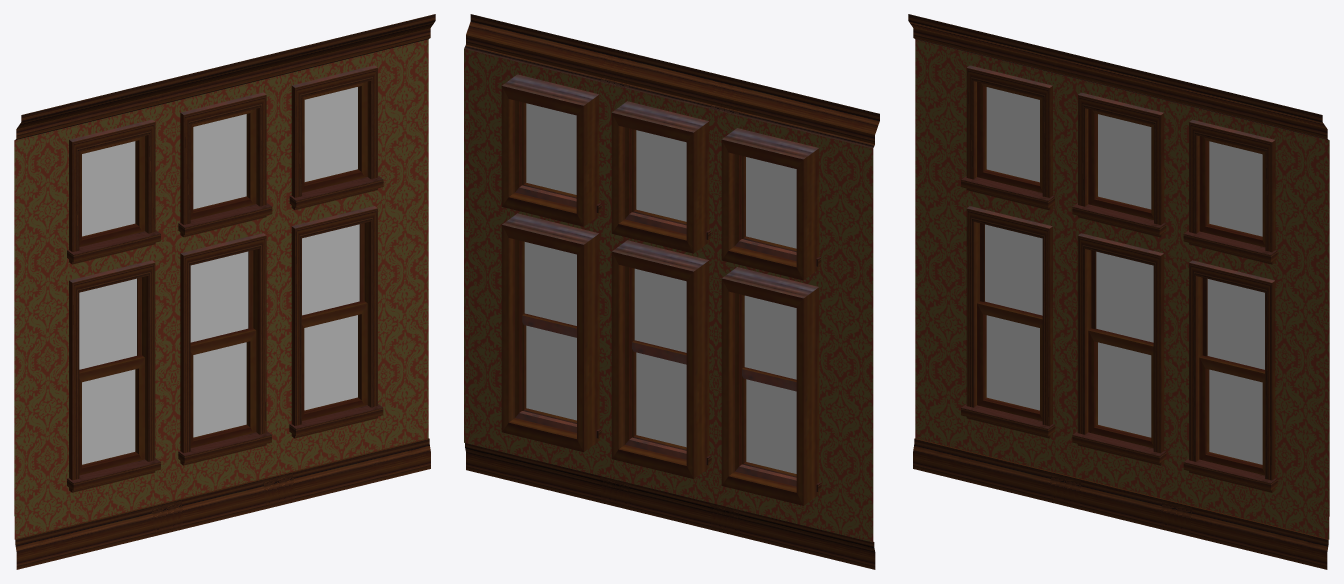
Rendered from Wallof3Windows.fbx.
The picture shows the model from 3 angles, left to right: view 1: azimuth 30°, elevation 25°; view 2: azimuth 150°, elevation 25°; view 3: azimuth 330°, elevation 25°; orthographic projection.
Parts seen in each view (by area): view 1: Wall_SmoothWindowNarrow.001; view 2: Wall_SmoothWindowNarrow.001; view 3: Wall_SmoothWindowNarrow.001.
Part boxes in pixels (box(x1,y1,x2,y2)): Wall_SmoothWindowNarrow.001: box(14, 14, 435, 569); Wall_SmoothWindowNarrow.001: box(464, 14, 879, 569); Wall_SmoothWindowNarrow.001: box(908, 14, 1329, 569).
Bounding box in the file's own units: 351 × 371 × 33.18.
